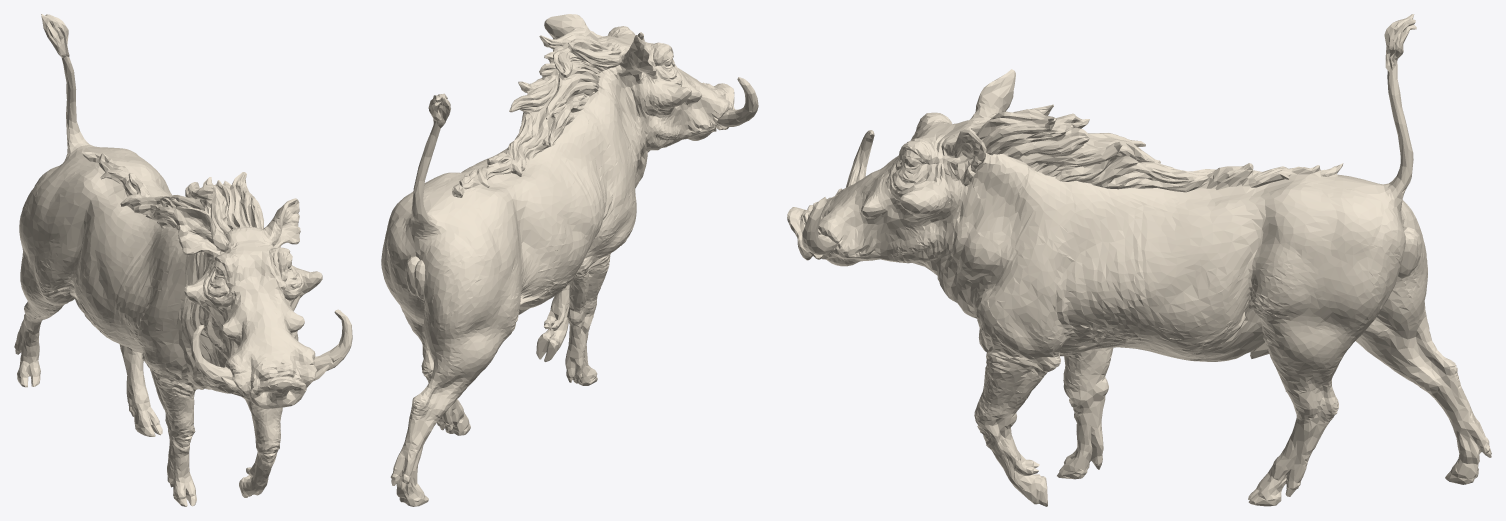
File: animal_warthog_v1.glb
The picture shows the model from 3 angles, left to right: view 1: azimuth 30°, elevation 25°; view 2: azimuth 150°, elevation 25°; view 3: azimuth 270°, elevation 25°; orthographic projection. The views are drawn at different scales.
Parts seen in each view (by area): view 1: warthog-1-24; view 2: warthog-1-24; view 3: warthog-1-24.
Part boxes in pixels (left/top/right/bottom): warthog-1-24: left=14, top=14, right=352, bottom=506; warthog-1-24: left=381, top=14, right=758, bottom=506; warthog-1-24: left=787, top=14, right=1491, bottom=506.
Size of the model in its own units: 18.47 by 41.02 by 56.88.
